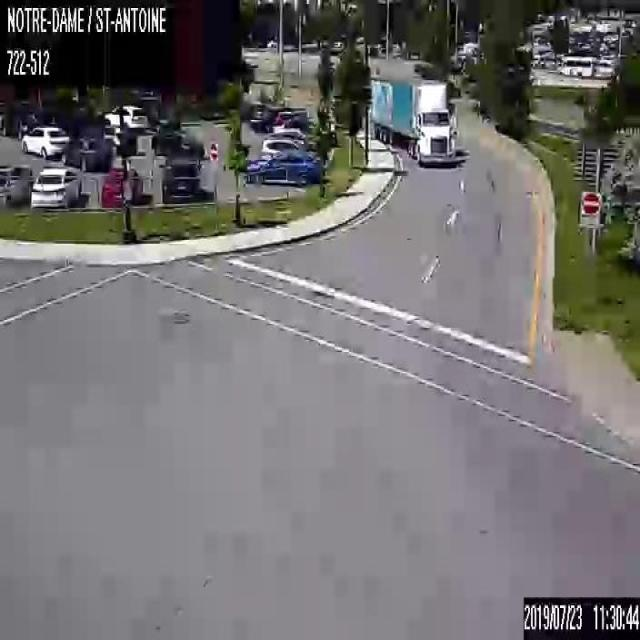vehicle: (368, 71, 456, 165), (247, 148, 320, 187), (30, 164, 82, 208), (158, 154, 204, 203), (61, 134, 110, 169), (20, 126, 70, 160), (100, 168, 142, 207), (0, 163, 34, 208), (152, 129, 204, 156), (104, 102, 148, 132), (261, 136, 315, 157), (264, 127, 307, 143)
